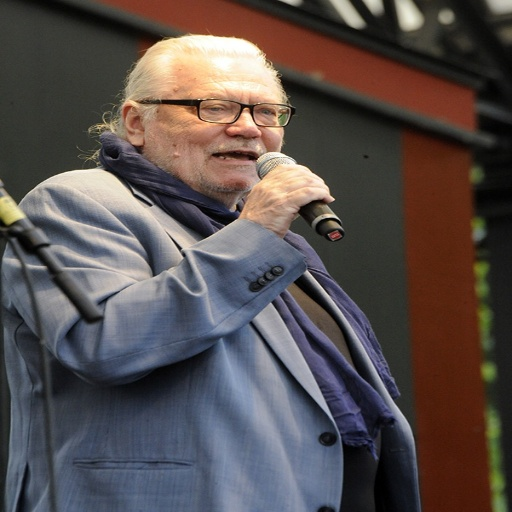hand: (228, 158, 339, 236)
